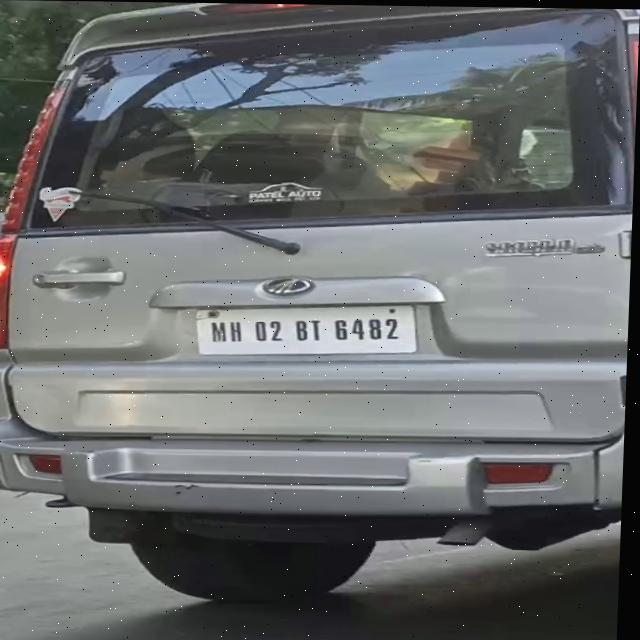plate: (194, 305, 425, 356)
